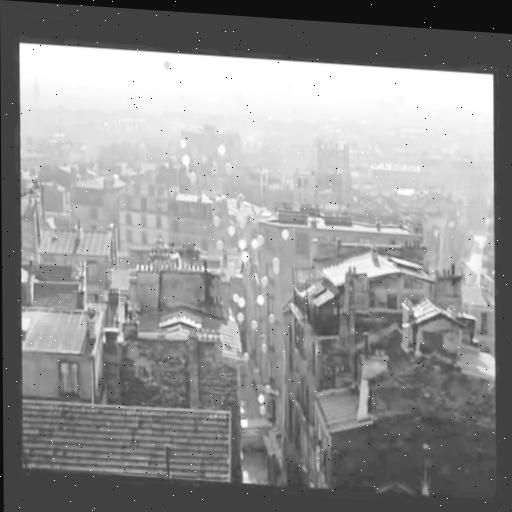balloon: (231, 89, 240, 106), (180, 90, 188, 105), (180, 137, 187, 152), (189, 172, 197, 185), (226, 161, 233, 175), (217, 145, 227, 154), (163, 59, 171, 70), (257, 294, 265, 305), (212, 215, 220, 225), (228, 226, 236, 236), (239, 296, 245, 309), (182, 154, 189, 165), (282, 228, 289, 239), (216, 239, 222, 251), (259, 276, 267, 285), (252, 318, 258, 330), (243, 352, 250, 362), (243, 250, 249, 261), (274, 263, 280, 274), (258, 234, 263, 247), (250, 240, 258, 248), (237, 314, 244, 323), (274, 256, 280, 266), (233, 293, 239, 303), (267, 315, 274, 323), (240, 218, 245, 228), (240, 238, 245, 248), (258, 393, 263, 403), (262, 341, 266, 352), (265, 385, 271, 392), (260, 407, 265, 414)
